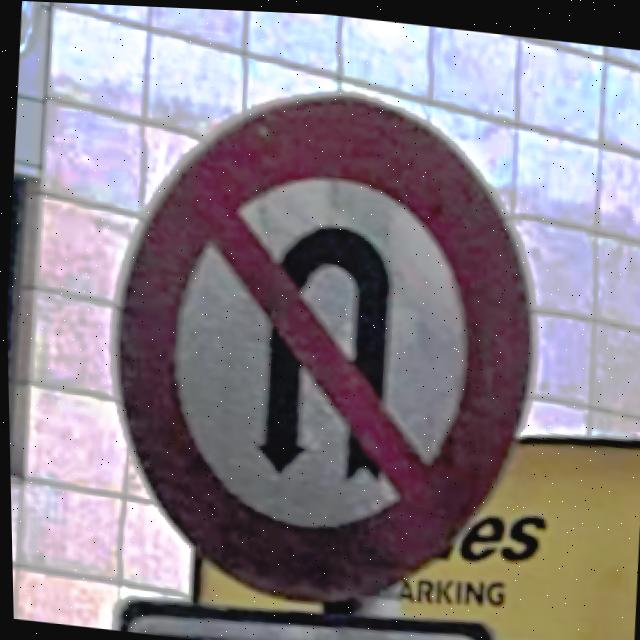nouturn: (116, 90, 527, 604)
